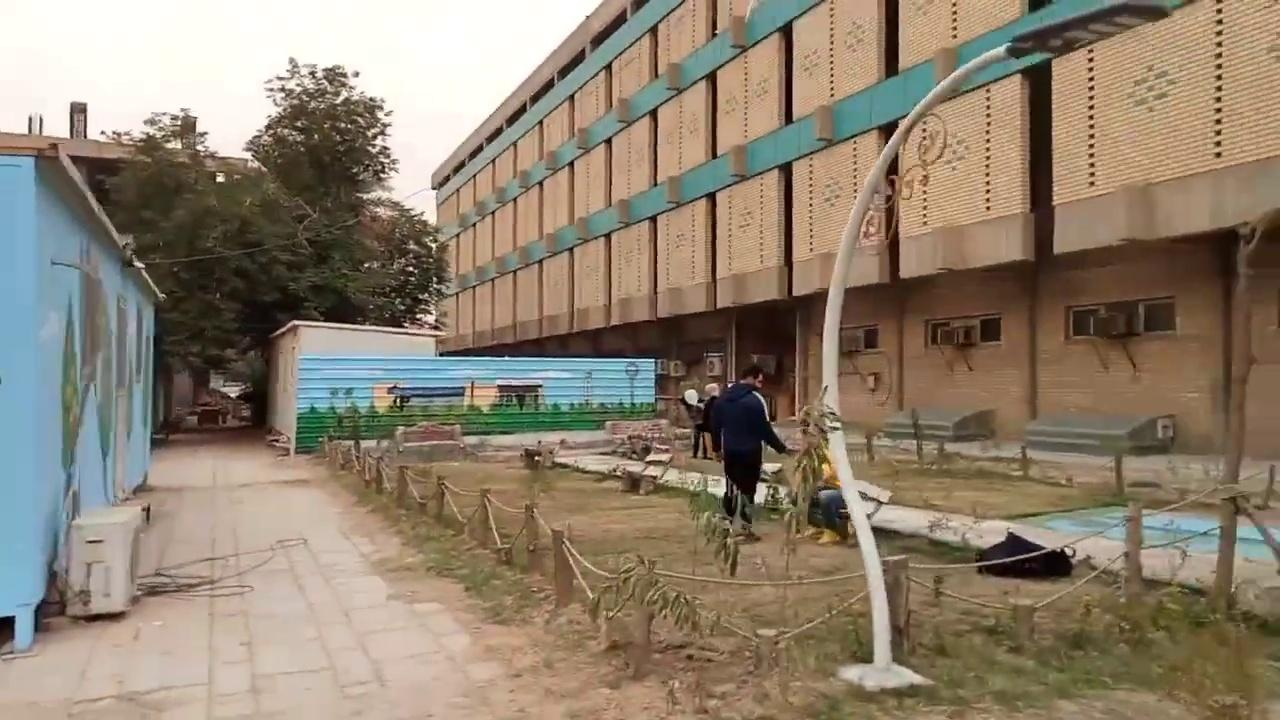person: (710, 363, 791, 543), (679, 385, 714, 459), (699, 382, 722, 461)
tree: (96, 54, 452, 416), (98, 107, 287, 407), (240, 55, 400, 323), (347, 195, 453, 330)
